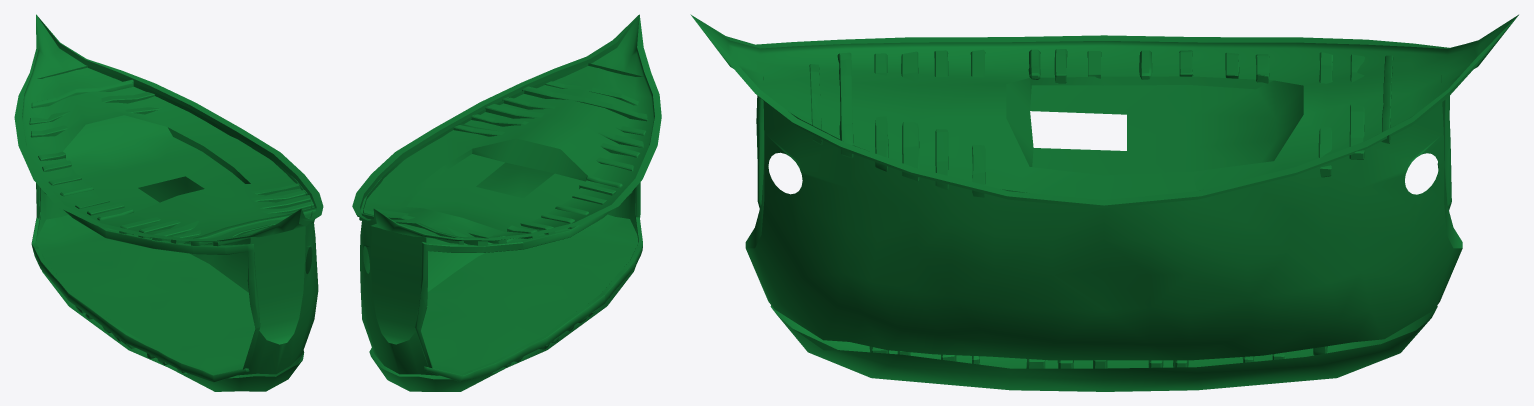
File: mc_side_right_int_walls.FBX
The picture shows the model from 3 angles, left to right: view 1: azimuth 30°, elevation 25°; view 2: azimuth 150°, elevation 25°; view 3: azimuth 270°, elevation 25°; orthographic projection. The views are drawn at different scales.
Parts seen in each view (by area): view 1: mc_side_right_int_walls; view 2: mc_side_right_int_walls; view 3: mc_side_right_int_walls.
Boxes of the visible parts, <box> form: mc_side_right_int_walls: <box>14,14,323,391</box>; mc_side_right_int_walls: <box>352,14,661,391</box>; mc_side_right_int_walls: <box>690,14,1518,391</box>.
Bounding box in the file's own units: 52.22 × 50.48 × 108.
